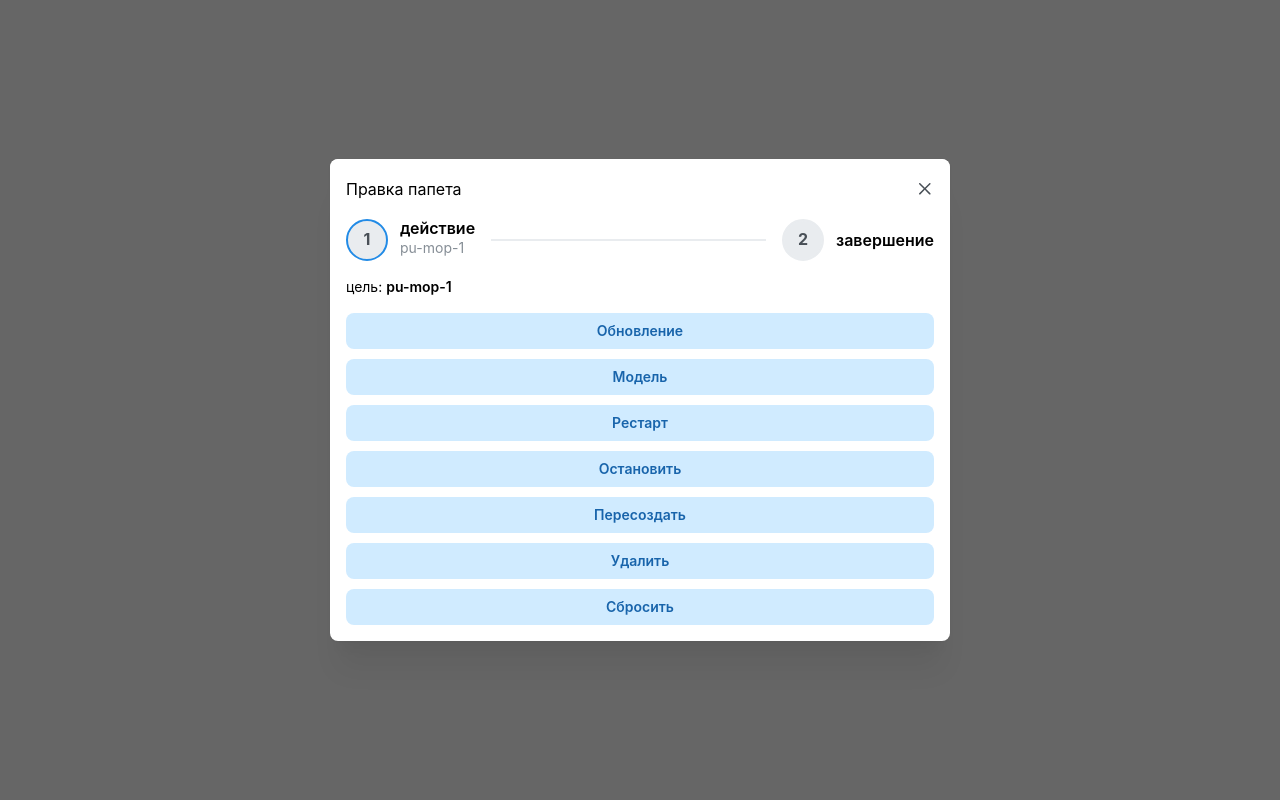
Test: #527 reversibility is named only where it is lost
Click the button "Обновление". click: (640,331)
box: [346, 313, 934, 349]
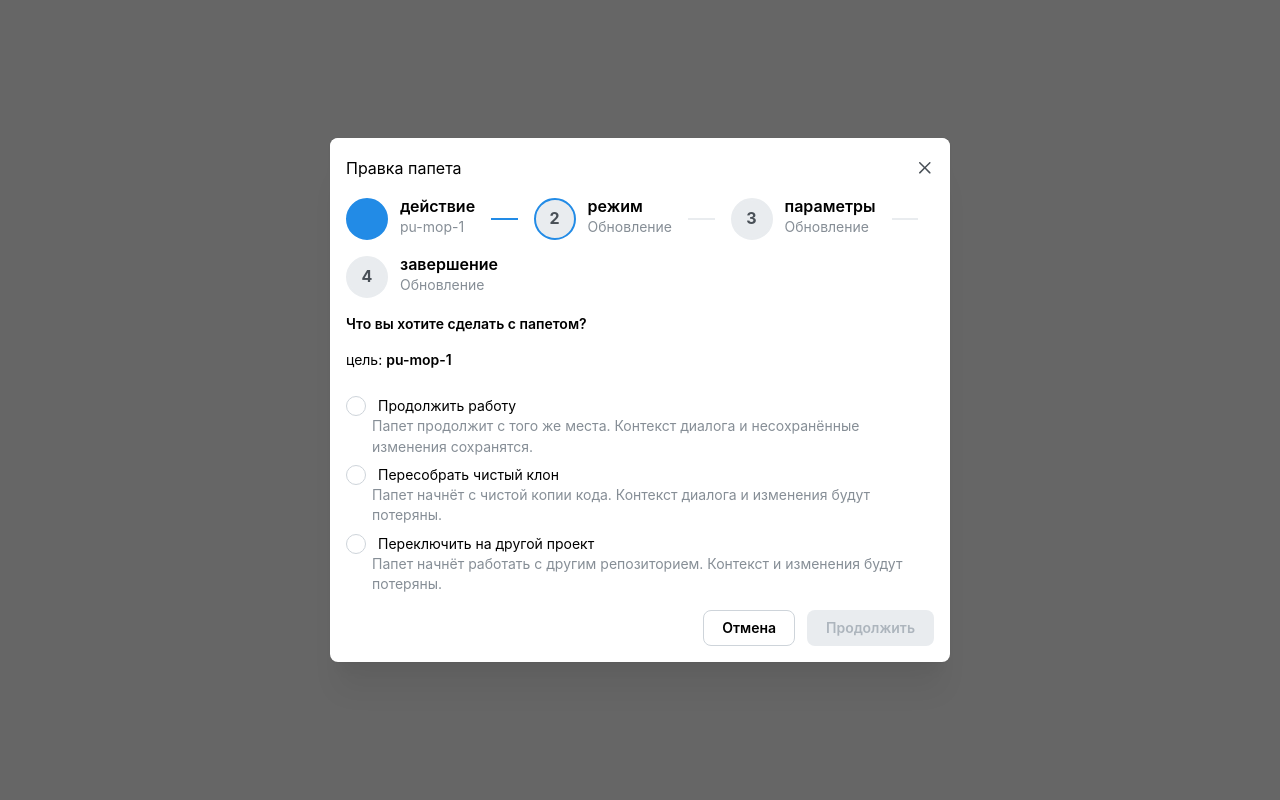
Click the radio button labelled "Продолжить работу". click: (356,406)
box: [346, 396, 366, 416]
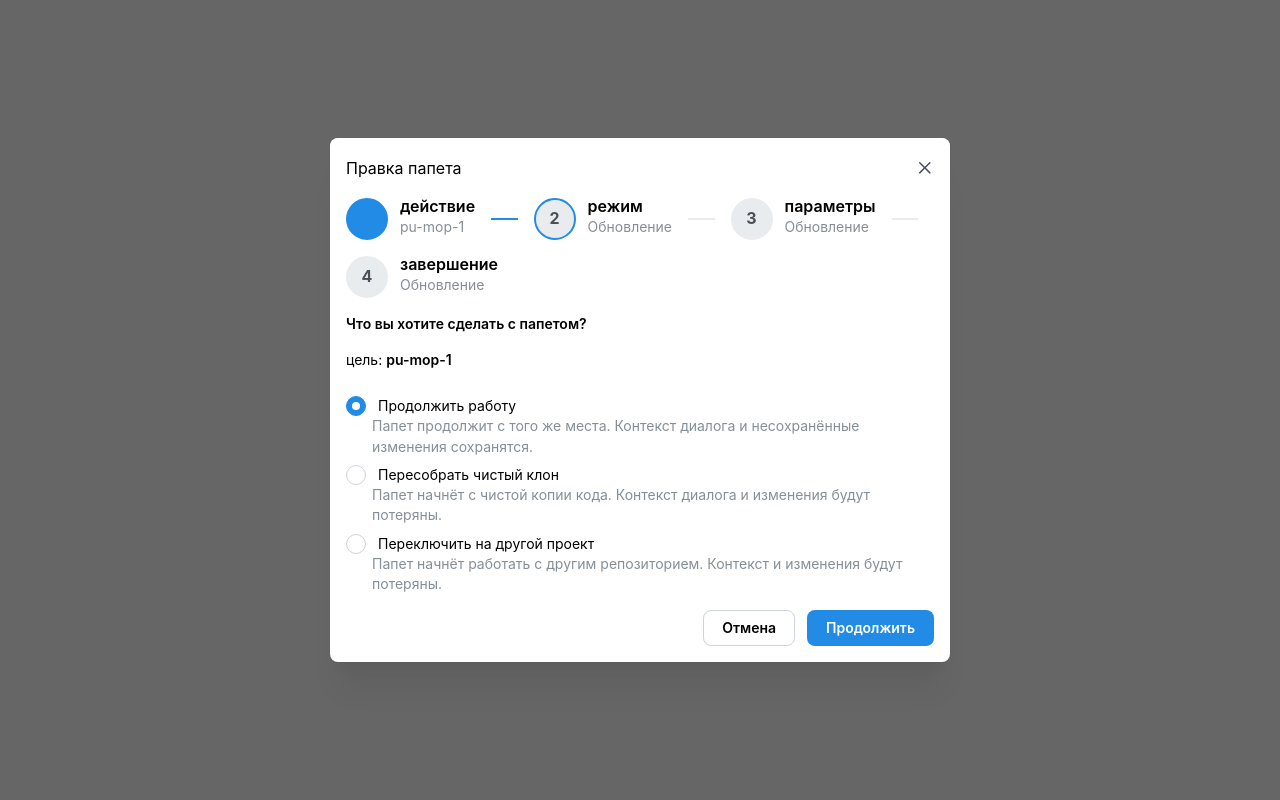
Click the button "Продолжить". click: (871,628)
box: [807, 610, 934, 646]
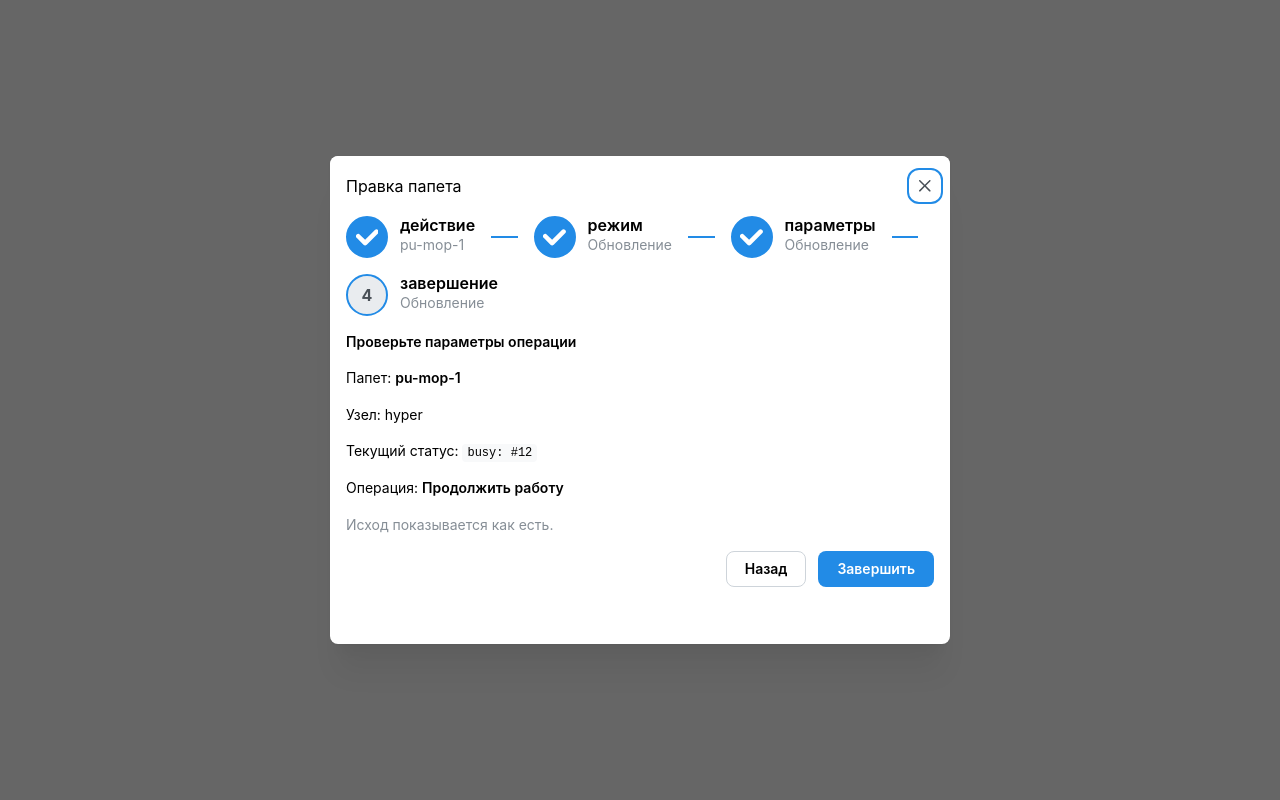
Expected: the text with test id "control-window" no longer shows "будут потеряны"
